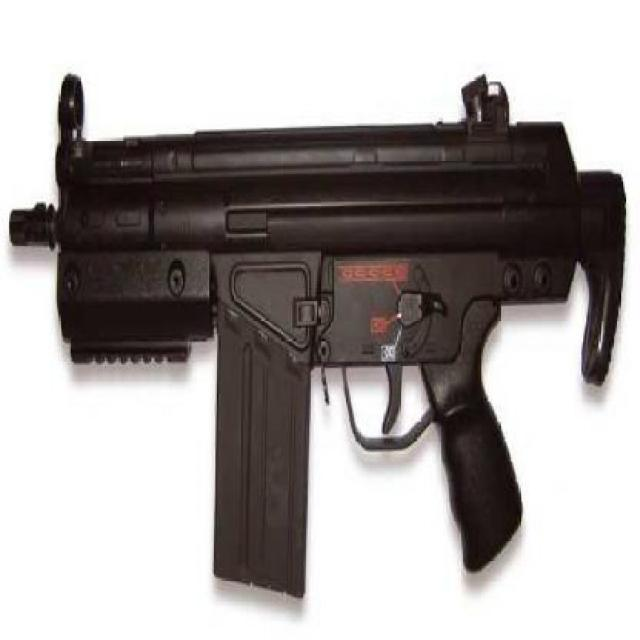weapon: (10, 66, 623, 581)
